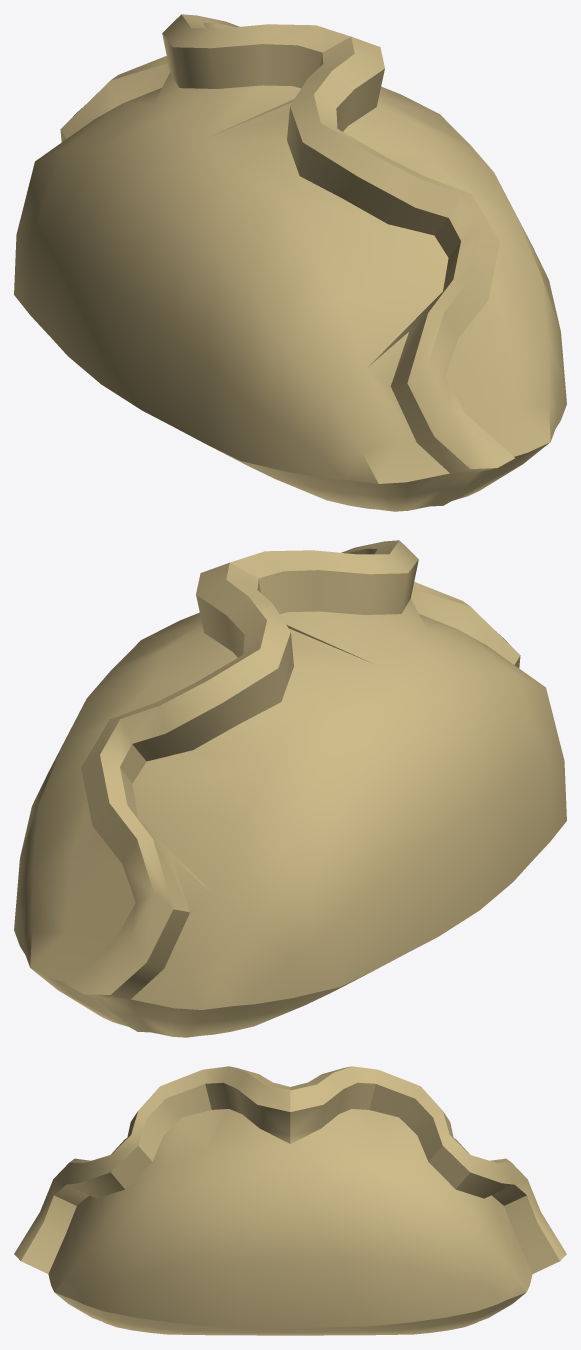
Rendered from gyoza.glb.
3 renders of one model, top to bottom at view 1: azimuth 30°, elevation 25°; view 2: azimuth 150°, elevation 25°; view 3: azimuth 270°, elevation 25°, orthographic. The views are drawn at different scales.
Parts seen in each view (by area): view 1: Food_Gyoza; view 2: Food_Gyoza; view 3: Food_Gyoza.
Part boxes in pixels (x1=…): Food_Gyoza: x1=14, y1=14, x2=566, y2=511; Food_Gyoza: x1=14, y1=540, x2=566, y2=1037; Food_Gyoza: x1=14, y1=1066, x2=566, y2=1335.
Bounding box in the file's own units: 0.2968 × 0.2588 × 0.5511.
Materials: 1 (1 with a texture image).
